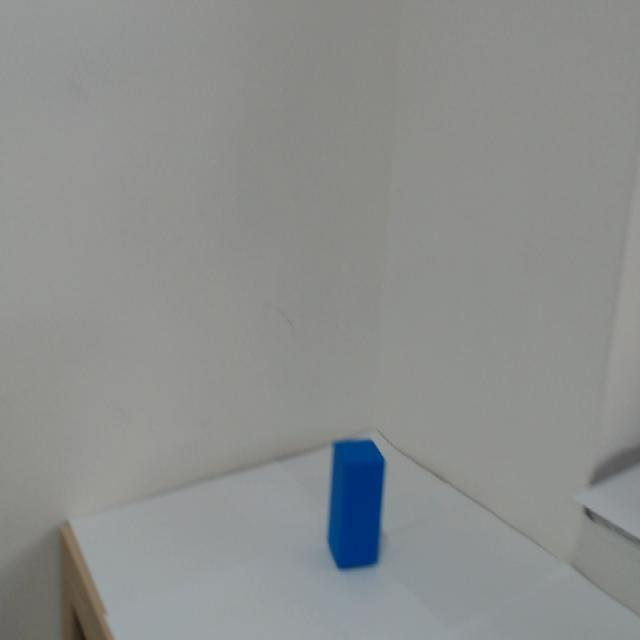cube: (287, 416, 405, 575)
